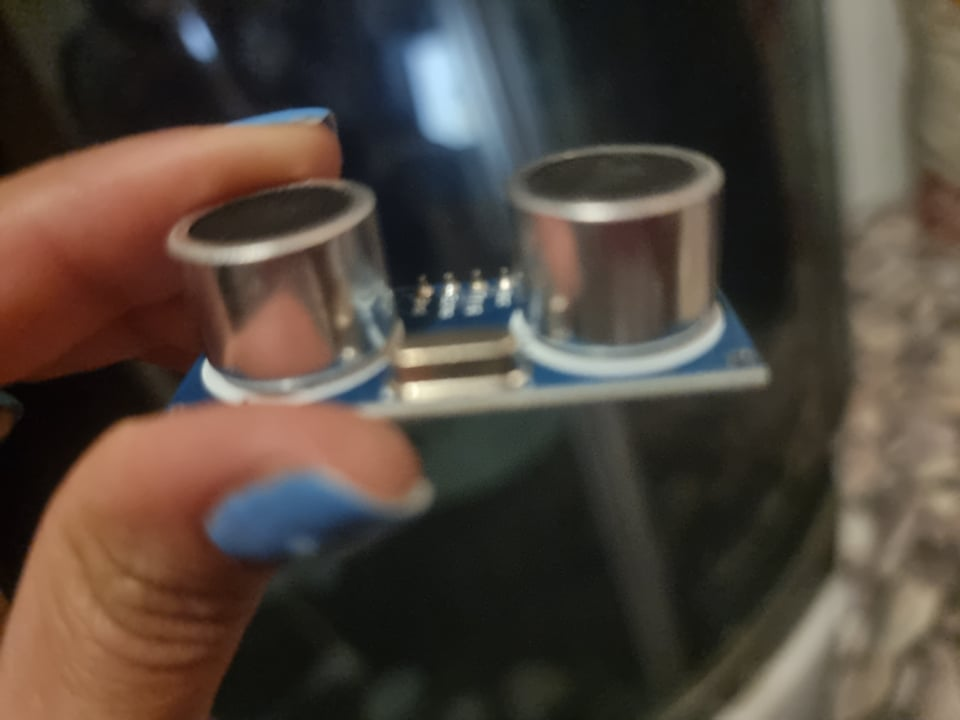SENSOR: (159, 140, 773, 415)
